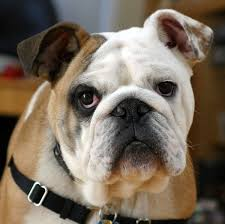Bulldog: (4, 7, 217, 212)
